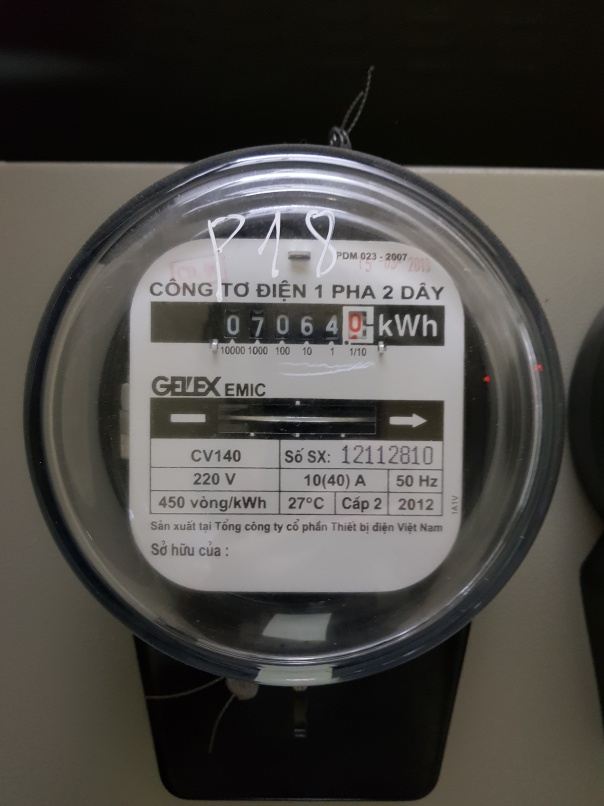counter: (150, 300, 447, 347)
electricity_meter: (24, 141, 569, 671)
